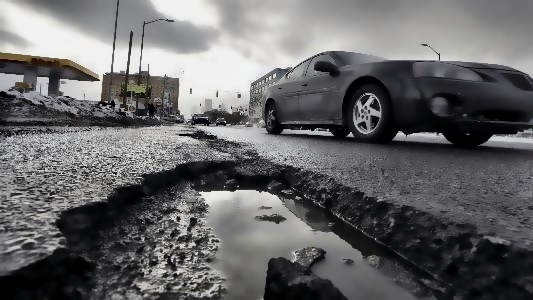pothole: (0, 153, 532, 299)
